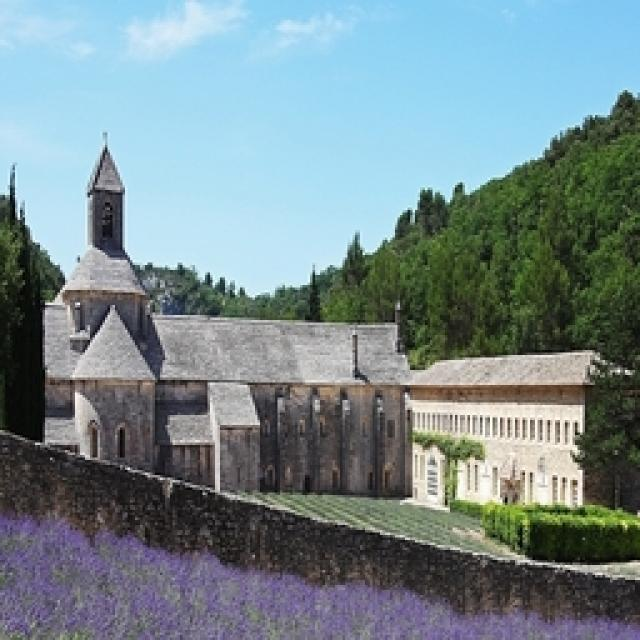Abbey: (41, 129, 416, 499)
